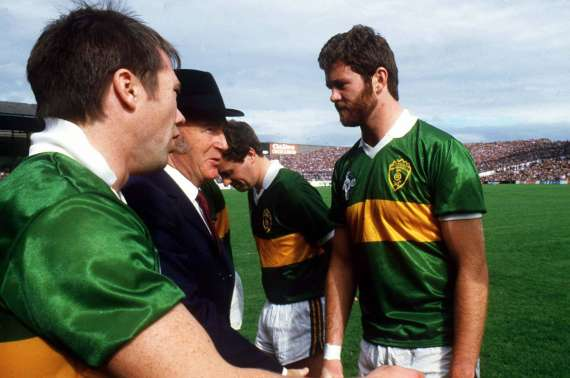player: (8, 1, 233, 372), (312, 18, 490, 372), (208, 116, 328, 352), (157, 56, 242, 292)
